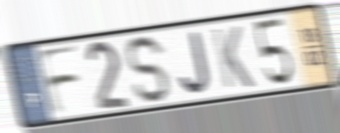2: (86, 38, 131, 110)
5: (251, 16, 294, 88)
F: (35, 43, 83, 119)
J: (177, 29, 212, 97)
K: (209, 24, 257, 91)
S: (125, 33, 172, 107)
